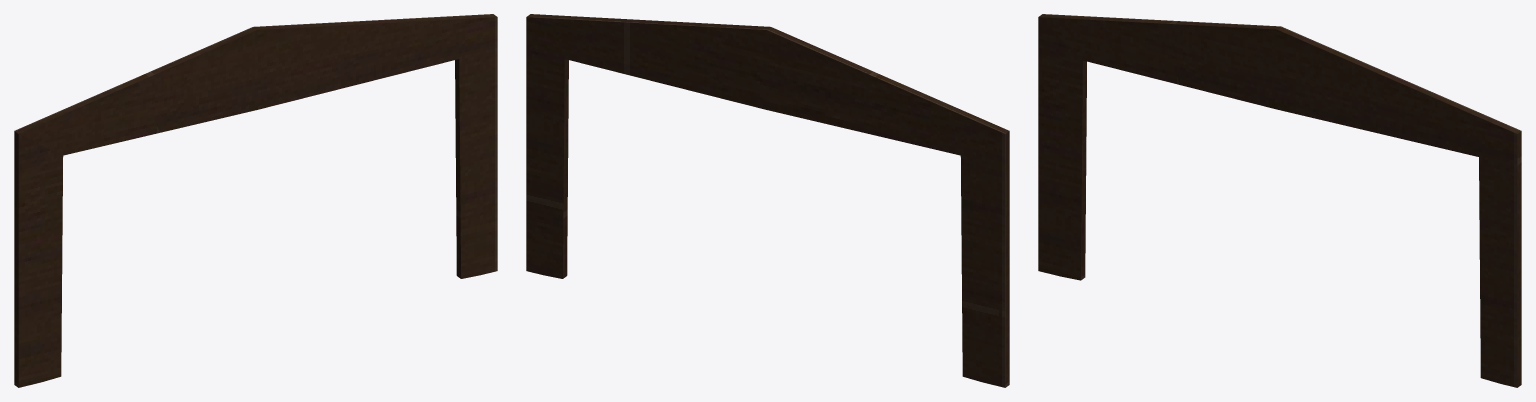
File: SM_Stage_Frame.glb
3 renders of one model, left to right at view 1: azimuth 30°, elevation 25°; view 2: azimuth 150°, elevation 25°; view 3: azimuth 330°, elevation 25°, orthographic.
Parts seen in each view (by area): view 1: SM_Stage_frame; view 2: SM_Stage_frame; view 3: SM_Stage_frame.
Boxes of the visible parts, <box> form: SM_Stage_frame: <box>14,14,497,387</box>; SM_Stage_frame: <box>526,14,1009,387</box>; SM_Stage_frame: <box>1038,14,1521,387</box>.
Size of the model in its own units: 15.64 by 9.35 by 0.2426.
Materials: 1 (1 with a texture image).
